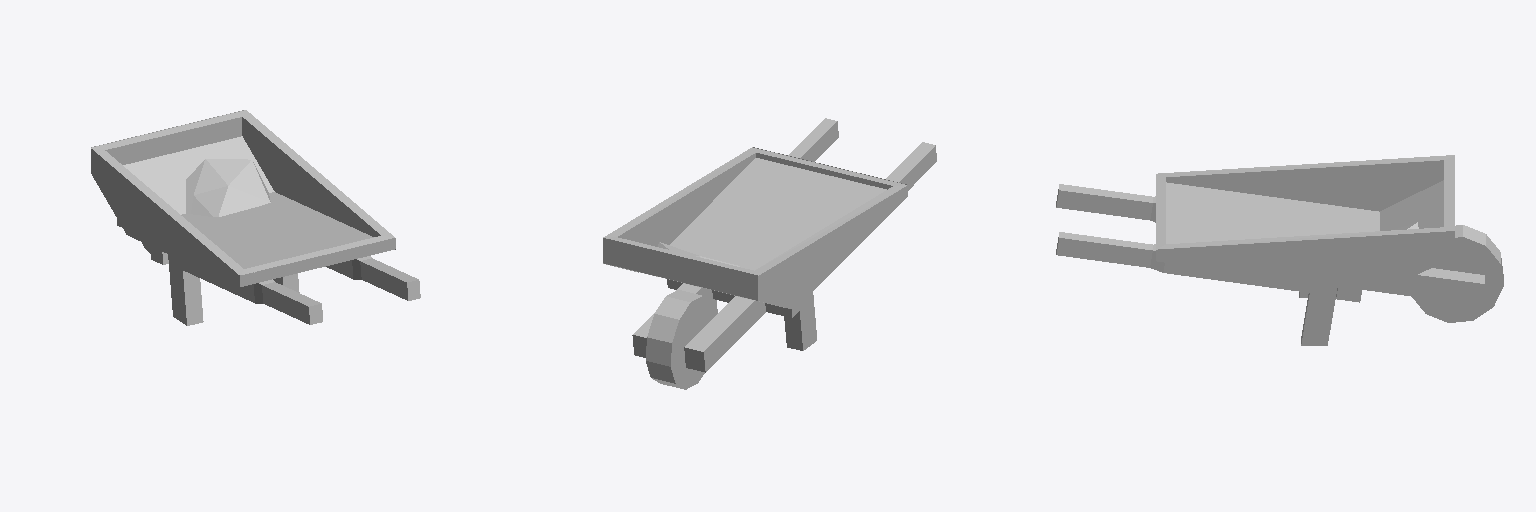
Rendered from Wheelbarrow.obj.
3 renders of one model, left to right at view 1: azimuth 30°, elevation 25°; view 2: azimuth 150°, elevation 25°; view 3: azimuth 270°, elevation 25°, orthographic.
Visible parts, largest first — view 1: Cube; view 2: Cube; view 3: Cube.
Part boxes in pixels (bbox=[...]): Cube: bbox=[91, 110, 420, 325]; Cube: bbox=[603, 118, 936, 389]; Cube: bbox=[1056, 155, 1503, 345].
Bounding box in the file's own units: 1.14 × 0.8883 × 2.83.